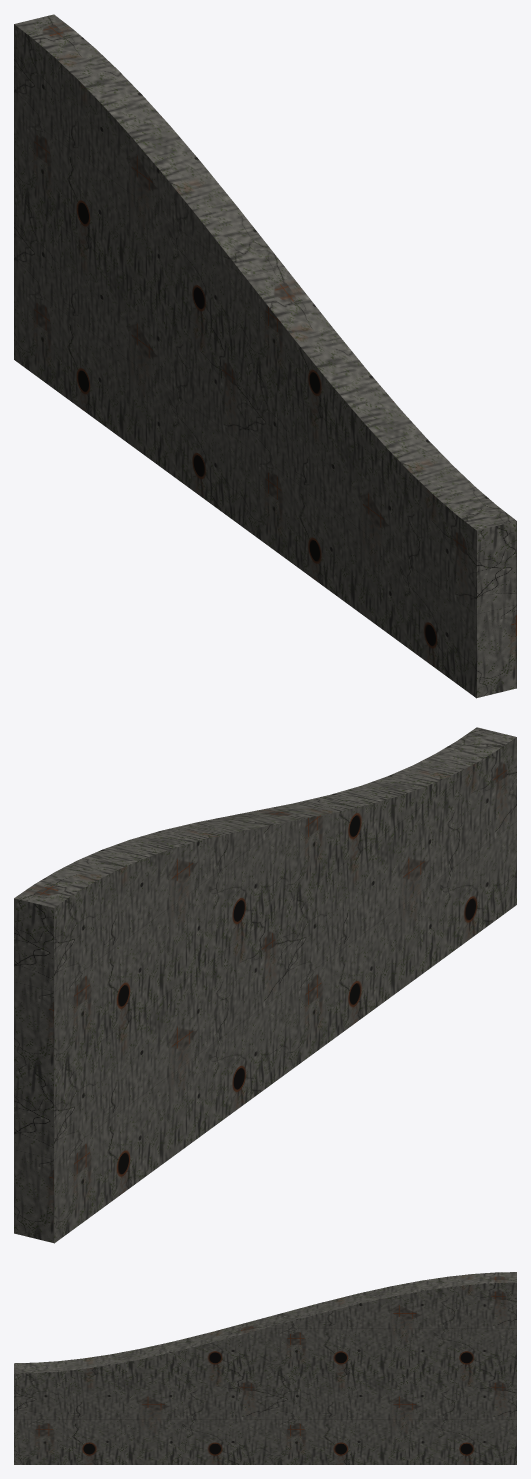
The model's file is Wall_Side_Slope.fbx.
3 views of the same model, one above another, from view 1: azimuth 30°, elevation 25°; view 2: azimuth 150°, elevation 25°; view 3: azimuth 270°, elevation 25° (orthographic). The views are drawn at different scales.
Visible parts, largest first — view 1: Wall_Side_Slope; view 2: Wall_Side_Slope; view 3: Wall_Side_Slope.
Boxes of the visible parts, x1,y1,x2,y2 form: Wall_Side_Slope: [14, 14, 516, 698]; Wall_Side_Slope: [14, 727, 516, 1243]; Wall_Side_Slope: [14, 1272, 516, 1464].
Bounding box in the file's own units: 100 × 800 × 2000.
